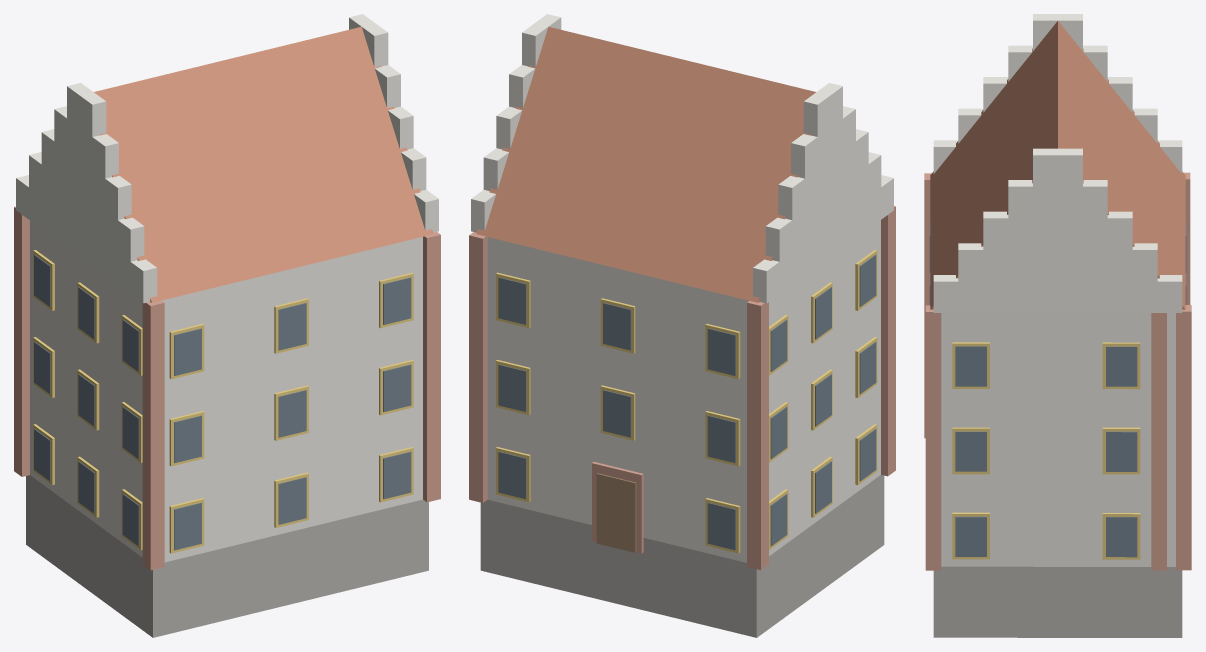
File: kandern-museum.glb
3 renders of one model, left to right at view 1: azimuth 30°, elevation 25°; view 2: azimuth 150°, elevation 25°; view 3: azimuth 270°, elevation 25°, orthographic. The views are drawn at different scales.
Visible parts, largest first — view 1: building; view 2: building; view 3: building.
Part boxes in pixels (box(x1,y1,x2,y2)): building: box(14, 14, 440, 637); building: box(469, 14, 895, 637); building: box(924, 14, 1191, 637).
Bounding box in the file's own units: 10.66 × 17.16 × 8.52.
